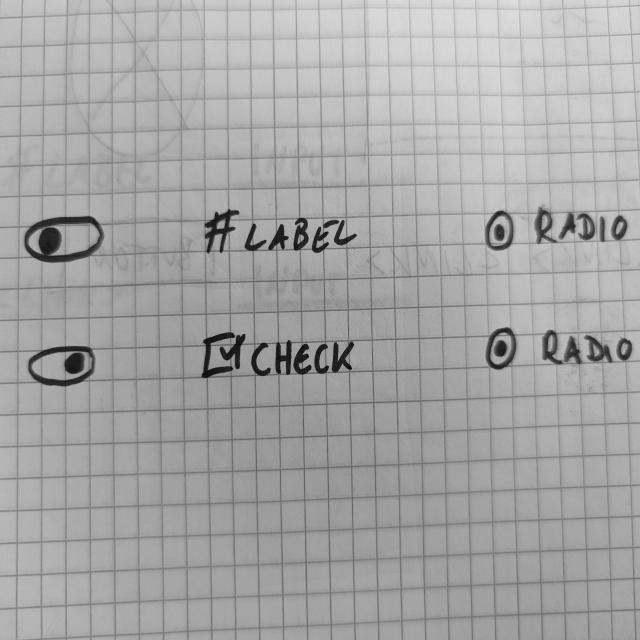checkbox: (200, 327, 358, 385)
label: (202, 204, 360, 256)
radio: (482, 204, 630, 258), (485, 324, 636, 370)
toggle: (21, 214, 108, 266), (27, 342, 98, 389)
